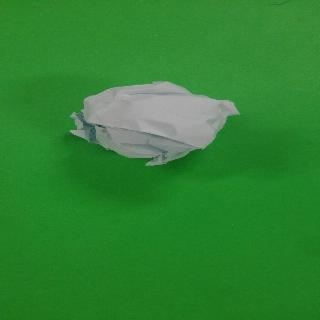8/可回收垃圾/纸: (68, 82, 240, 166)
